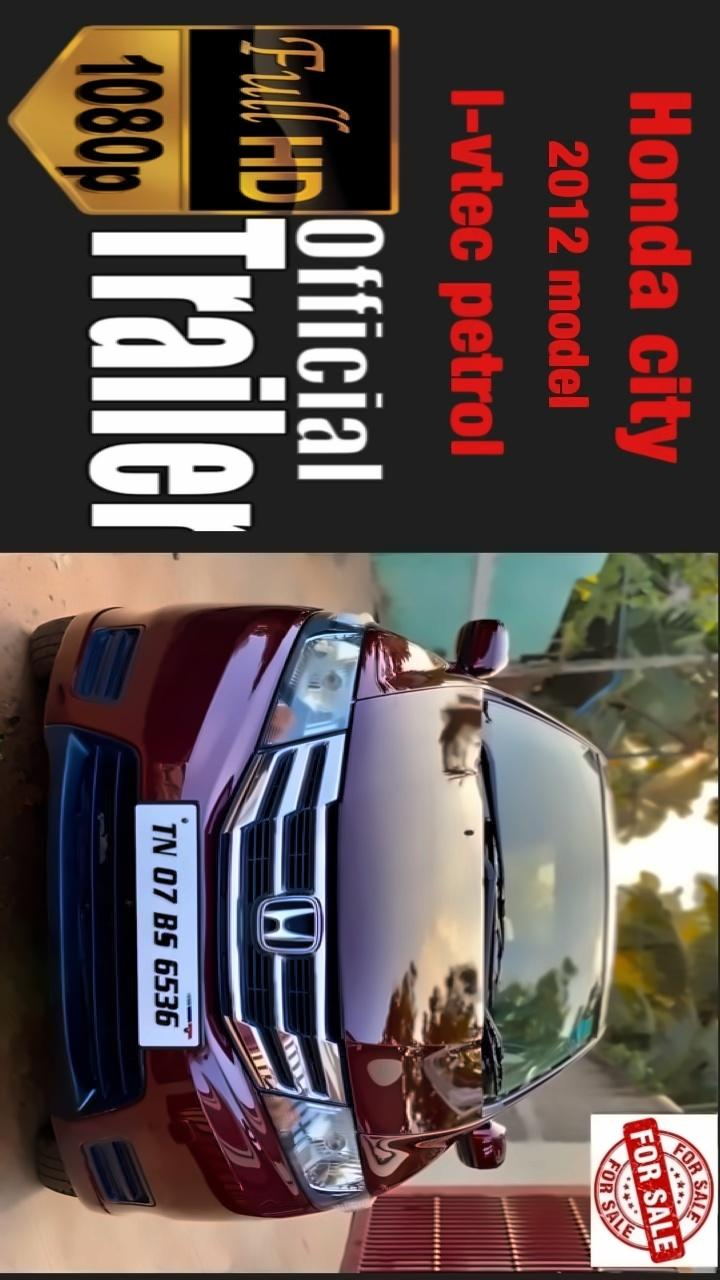Car hood: (334, 626, 493, 1203)
Front bumper: (32, 594, 282, 1228)
Headlight - -L-: (262, 1090, 372, 1221)
Headlight - -R-: (253, 614, 374, 759)
Side mirror - -L-: (451, 1112, 506, 1183)
Side mirror - -R-: (446, 612, 513, 698)
